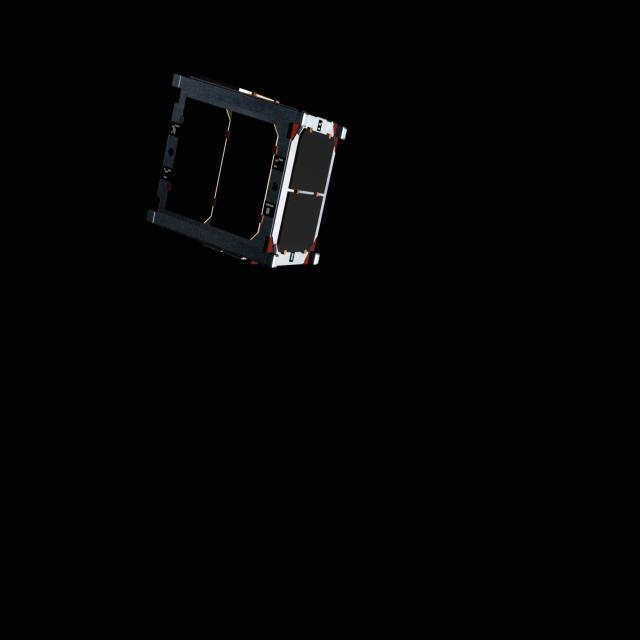medium_debris: (139, 68, 355, 282)
